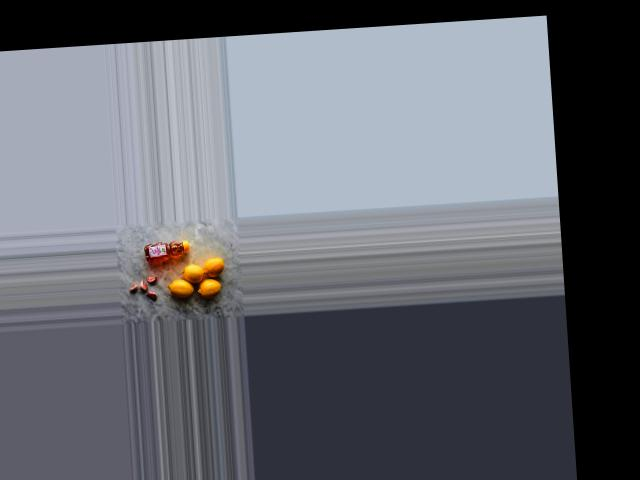lemon: (166, 274, 196, 302)
